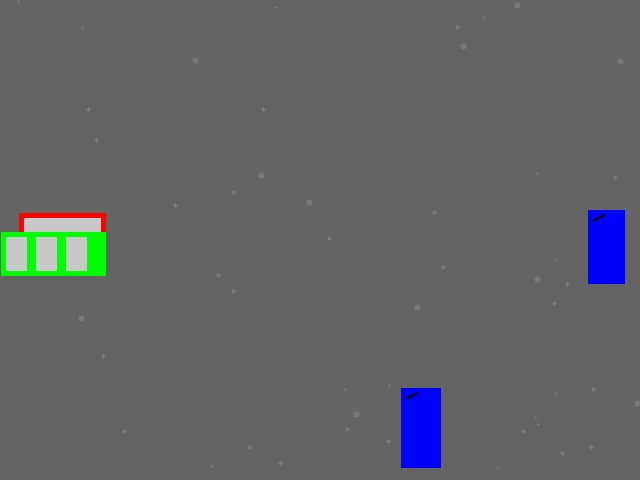bus: (1, 232, 105, 275)
car: (19, 213, 105, 256)
motorcycle: (401, 388, 440, 467), (588, 210, 624, 283)
